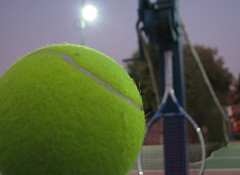tennis ball: (1, 43, 145, 175)
